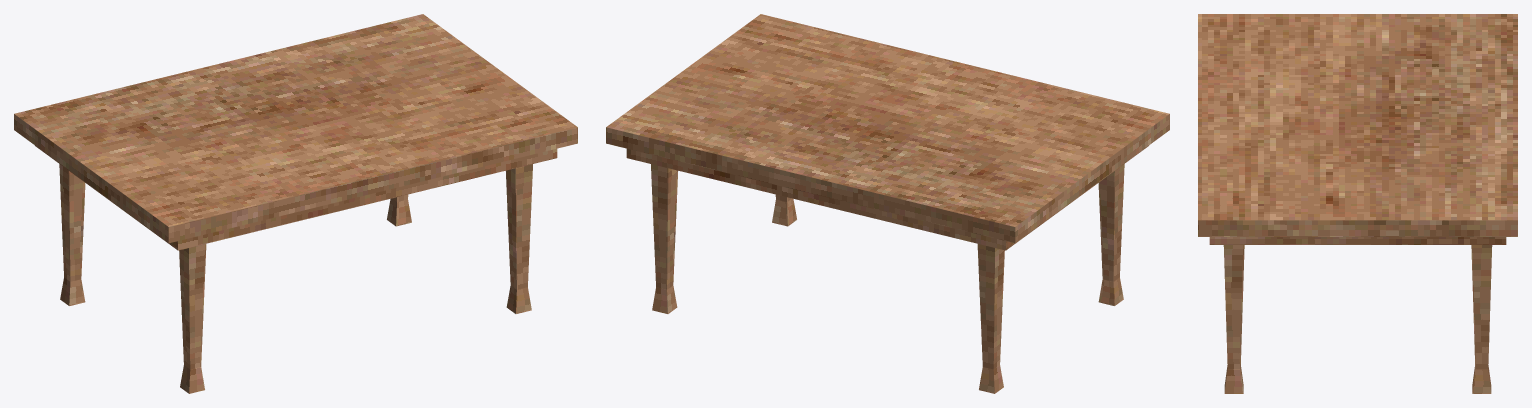
The model's file is apartment_table.glb.
The picture shows the model from 3 angles, left to right: view 1: azimuth 30°, elevation 25°; view 2: azimuth 150°, elevation 25°; view 3: azimuth 270°, elevation 25°; orthographic projection. The views are drawn at different scales.
Visible parts, largest first — view 1: table; view 2: table; view 3: table.
Part boxes in pixels (left/top/right/bottom): table: left=14, top=14, right=577, bottom=393; table: left=606, top=14, right=1169, bottom=393; table: left=1198, top=14, right=1517, bottom=393.
Size of the model in its own units: 1.67 by 0.7203 by 1.1.
1 material, 1 textured.
